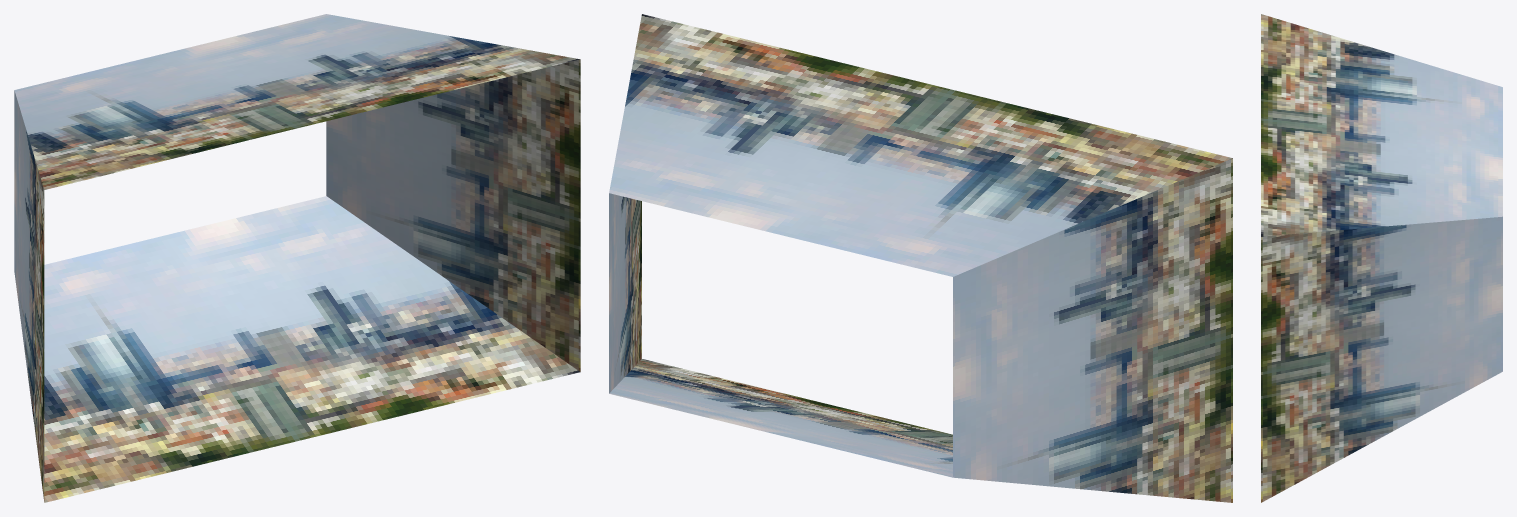
File: FBX_GodRays.fbx
3 views of the same model, side by side, from view 1: azimuth 30°, elevation 25°; view 2: azimuth 150°, elevation 25°; view 3: azimuth 270°, elevation 25° (orthographic). The views are drawn at different scales.
Parts seen in each view (by area): view 1: Milqno_geo.001; view 2: Milqno_geo.001; view 3: Milqno_geo.001.
Boxes of the visible parts, bbox=[...] form: Milqno_geo.001: bbox=[14, 14, 580, 502]; Milqno_geo.001: bbox=[609, 14, 1232, 502]; Milqno_geo.001: bbox=[1261, 14, 1502, 502].
Bounding box in the file's own units: 568 × 317 × 261.
Materials: 1 (1 with a texture image).
